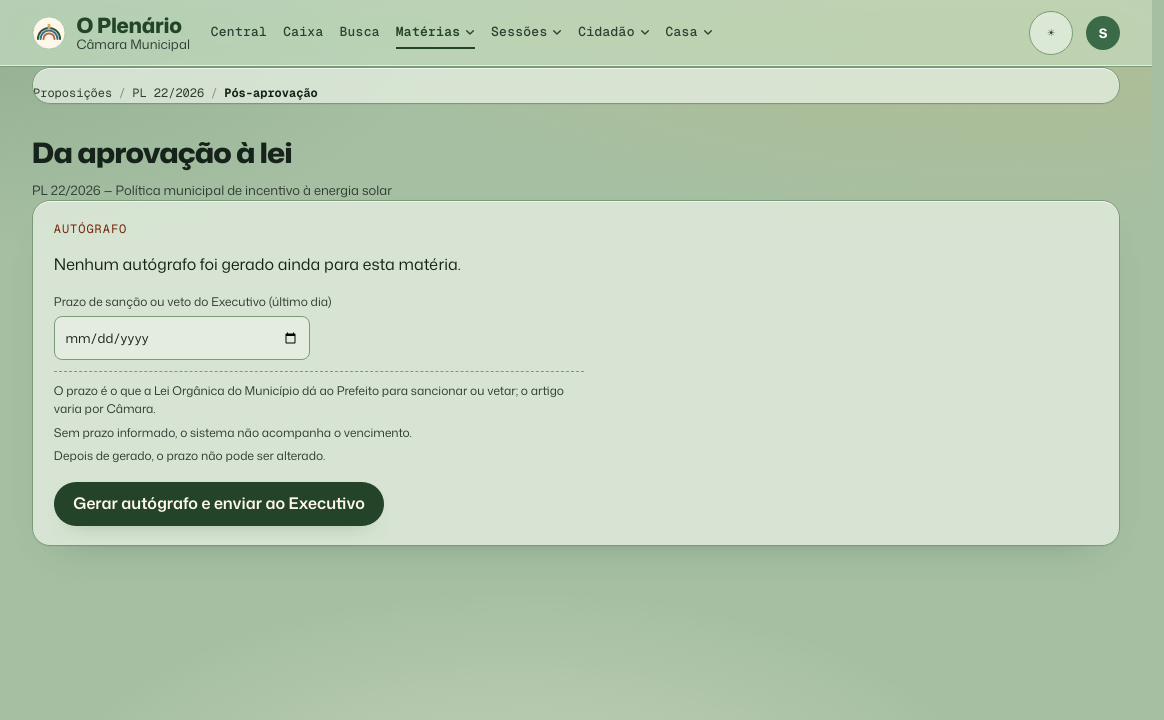
it: ConteudoPosAprovacao › data no passado -> frase de erro no formulário e nenhum POST
This screenshot has width=1164, height=720.
Check: the button "Gerar autógrafo e enviar ao Executivo" is shown, box [54,482,384,526]
Type "2020-01-01" into the date field labelled "Prazo de sanção ou veto do Executivo (último dia)" at (182, 338), box [54,316,310,360]
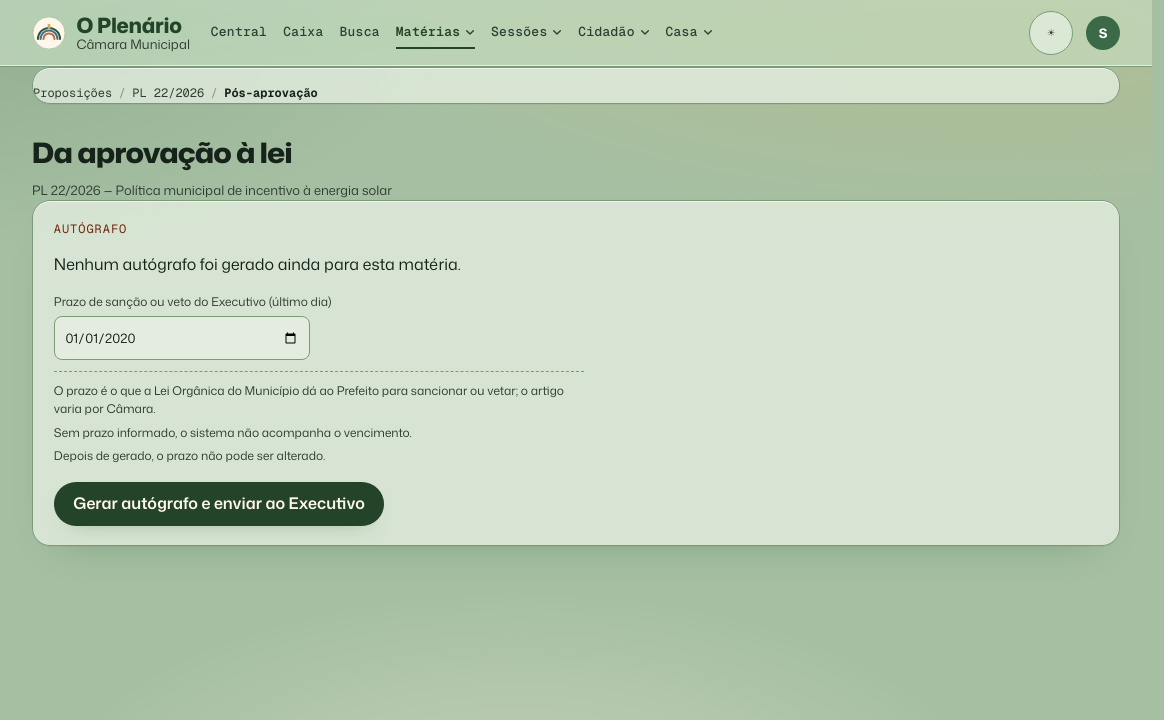
Click the button "Gerar autógrafo e enviar ao Executivo" at (219, 504), box [54,482,384,526]
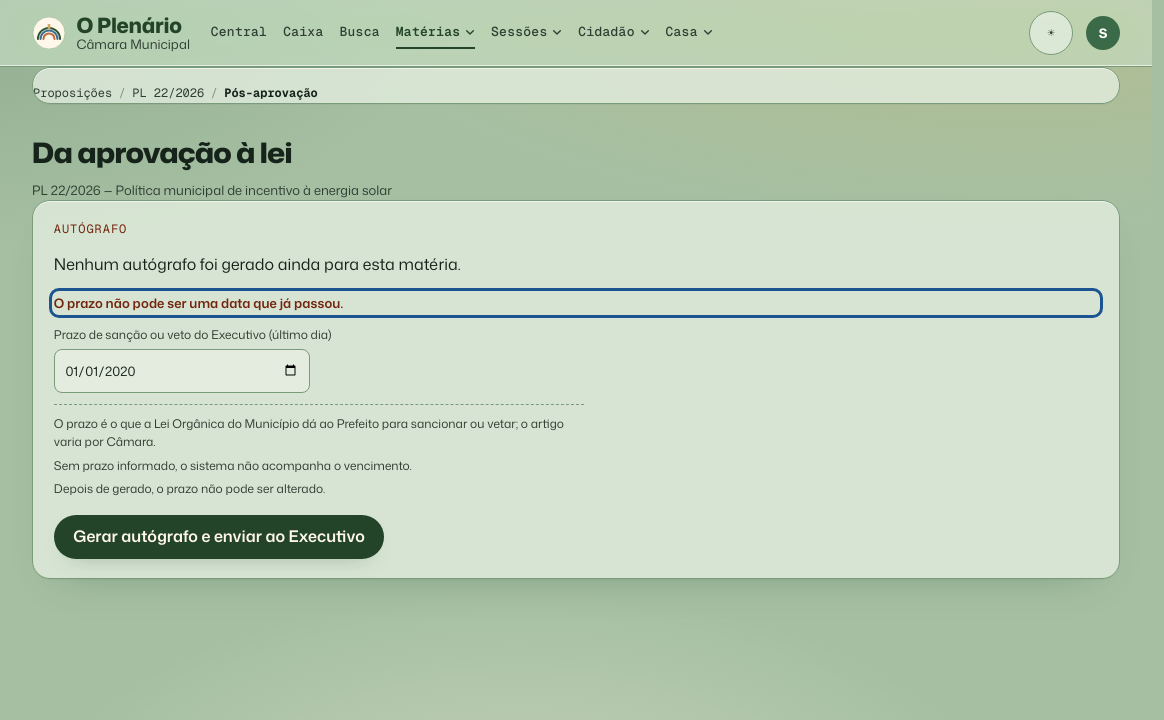
Check: the message reads "O prazo não pode ser uma data que já passou.", box [54,294,343,312]
